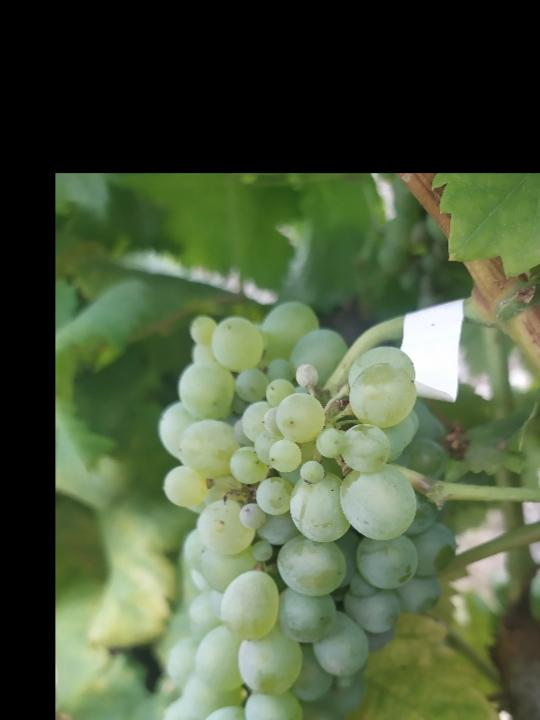grape: (131, 298, 459, 720)
